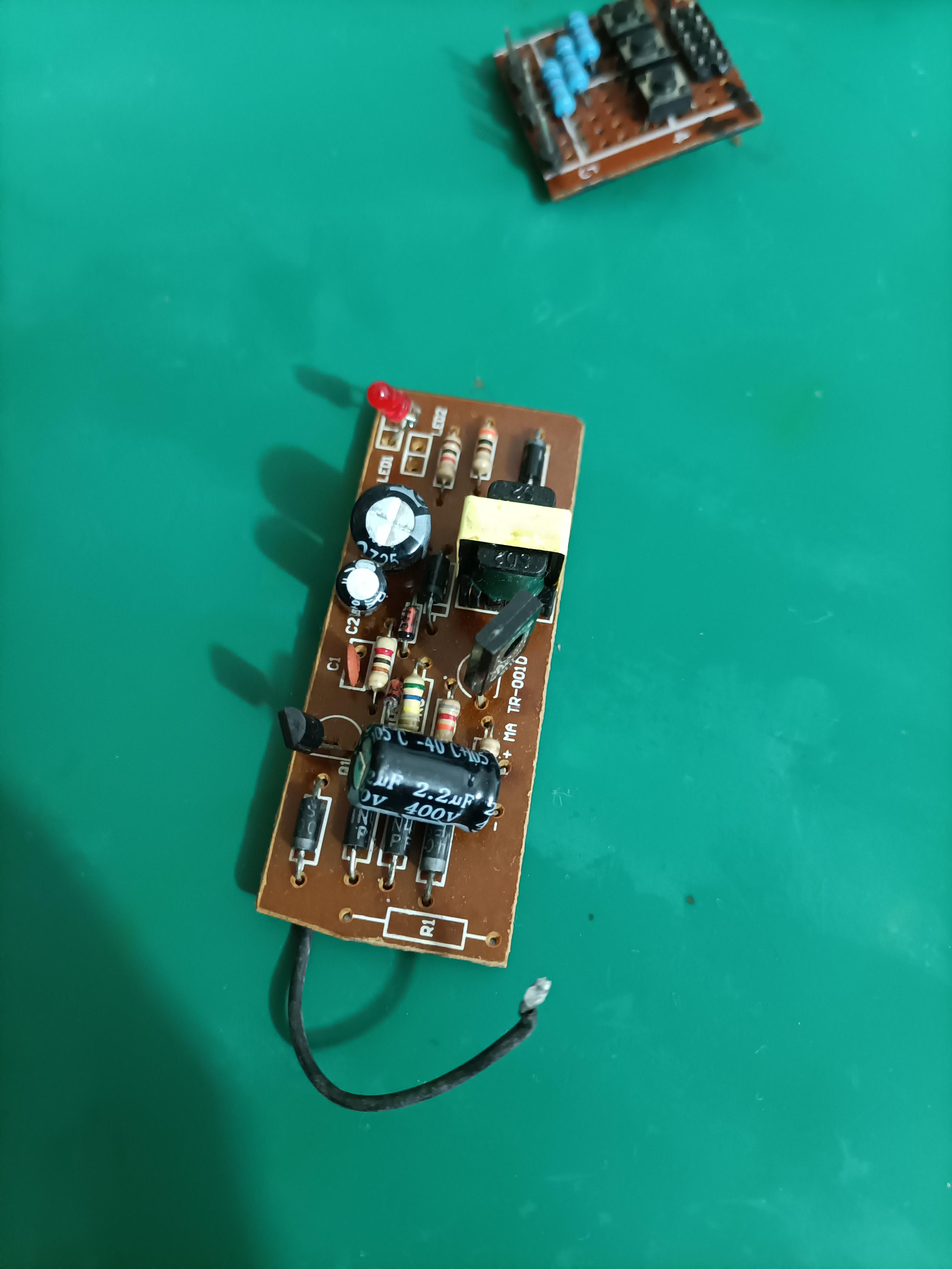LED: (363, 368, 414, 424)
Resistencia: (365, 628, 393, 701), (399, 665, 426, 738), (439, 419, 461, 491), (474, 419, 497, 487), (439, 693, 459, 756)
